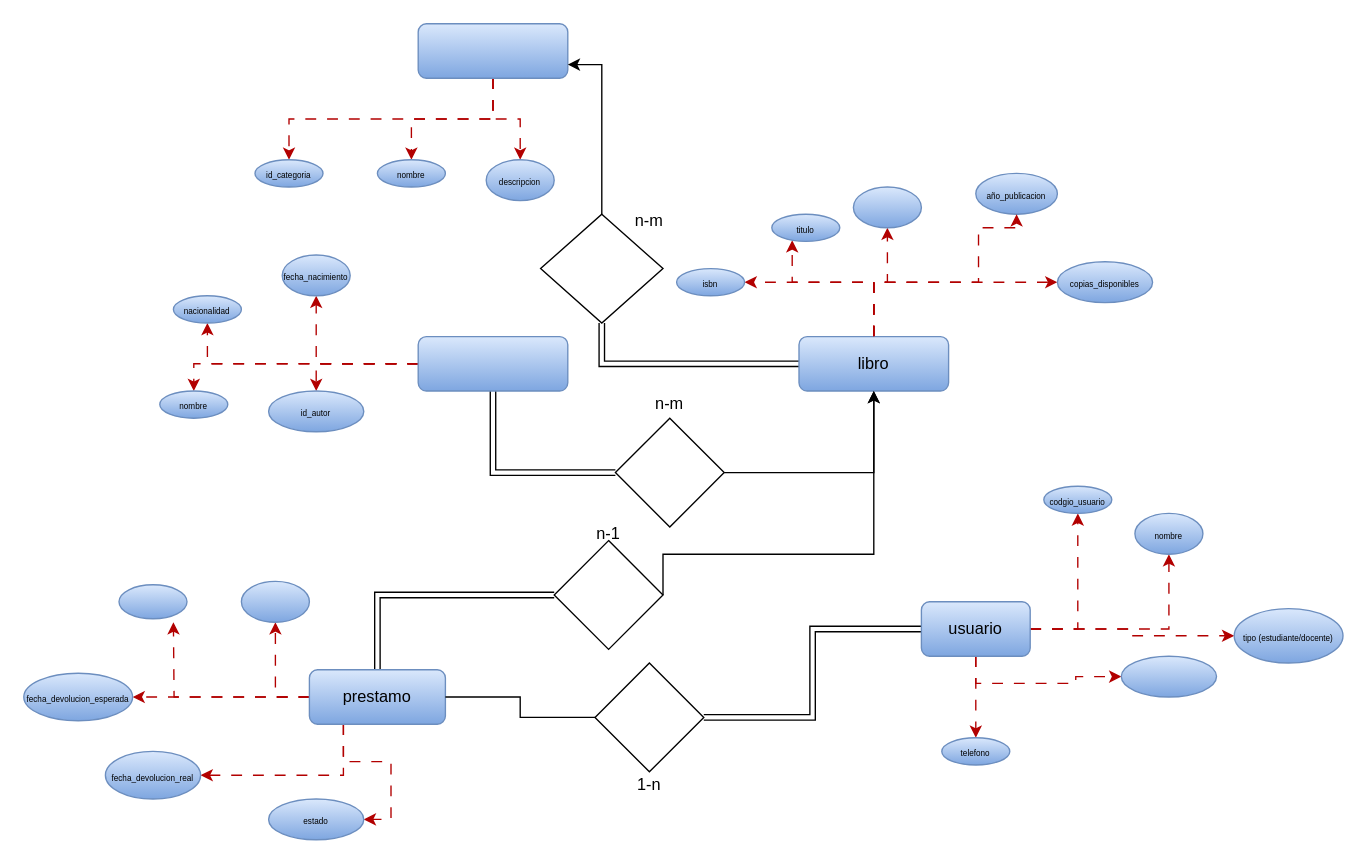
The diagram is 1367 pixels wide and 864 high, and some of its shapes have lost their labels. Here are the shapes that lost their labels. From the top down, the box of each, then its label:
(417, 22, 568, 78): categoria
(852, 186, 921, 228): editorial
(539, 213, 663, 323): pertenece a
(417, 335, 568, 391): autor
(614, 417, 724, 527): escribe
(118, 583, 187, 619): fecha_prestamo
(240, 580, 309, 622): id_prestamo
(553, 539, 663, 649): incluye
(1120, 655, 1217, 697): correo
(594, 662, 704, 772): realiza
